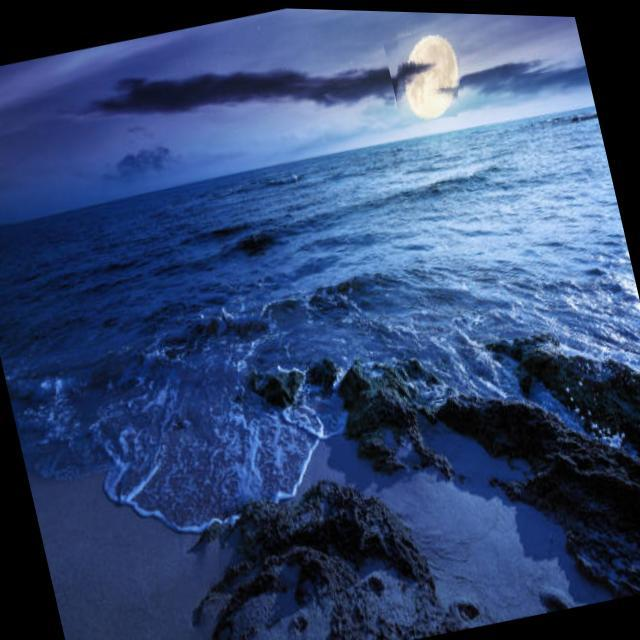moon: (381, 15, 474, 124)
